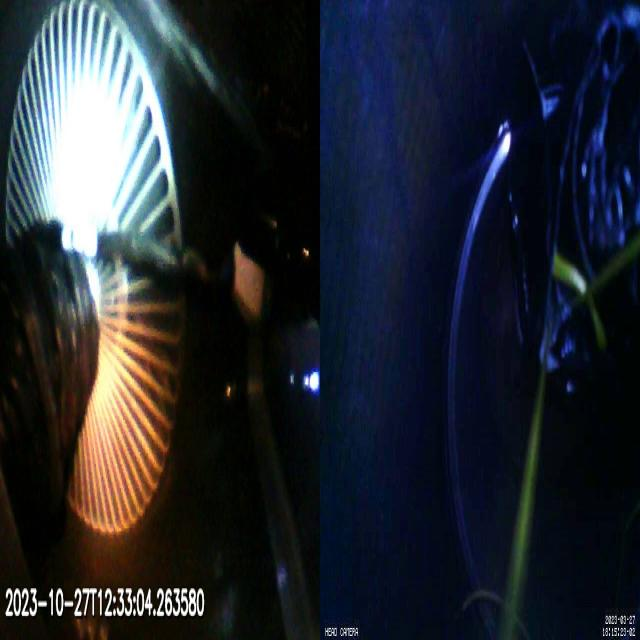head: (233, 239, 283, 320)
white-dots: (60, 218, 98, 257)
